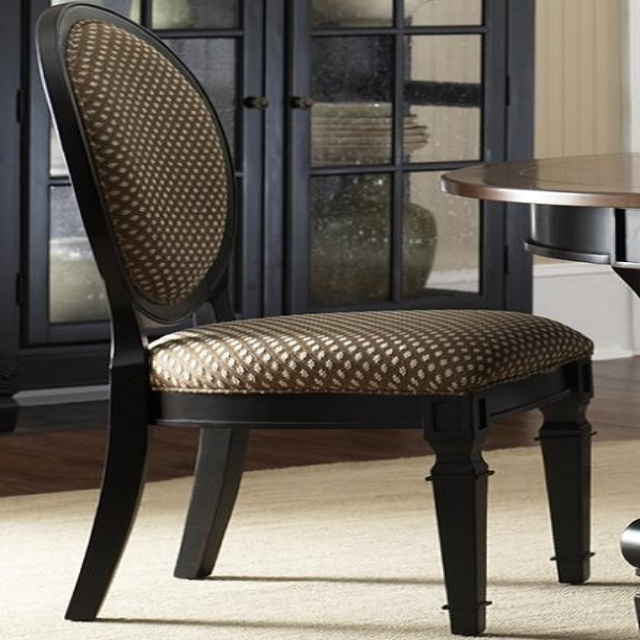obstacle: (38, 4, 590, 635)
